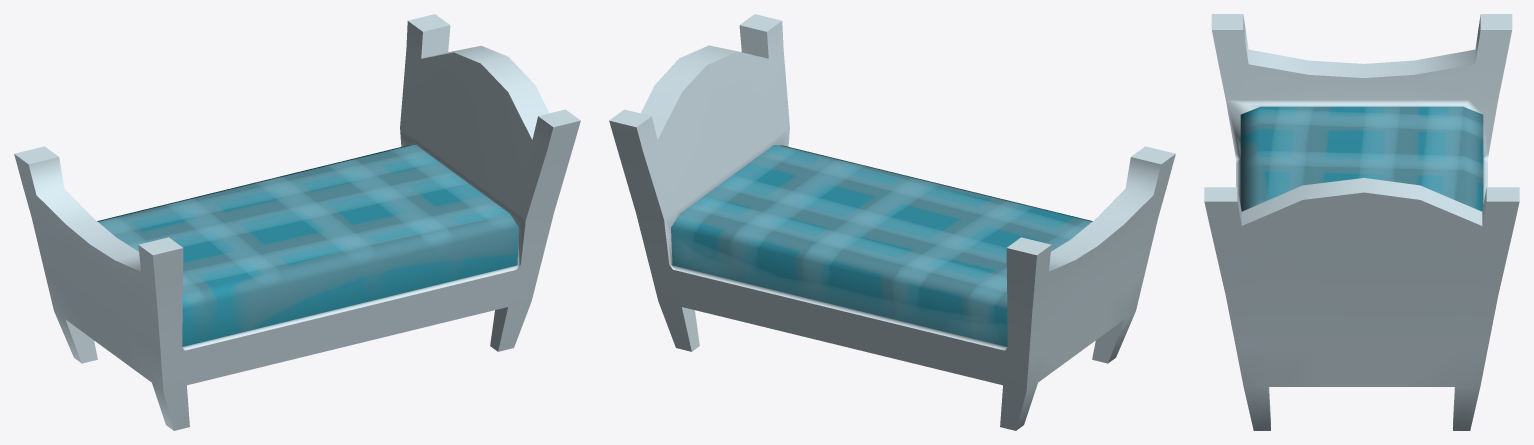
File: childBed.fbx
3 views of the same model, side by side, from view 1: azimuth 30°, elevation 25°; view 2: azimuth 150°, elevation 25°; view 3: azimuth 270°, elevation 25° (orthographic). The views are drawn at different scales.
Parts seen in each view (by area): view 1: bed; view 2: bed; view 3: bed.
Part boxes in pixels (bbox=[...]): bed: bbox=[14, 14, 580, 430]; bed: bbox=[609, 14, 1175, 430]; bed: bbox=[1204, 14, 1519, 430].
Bounding box in the file's own units: 7.25 × 3.95 × 4.29.
1 material, 1 textured.
